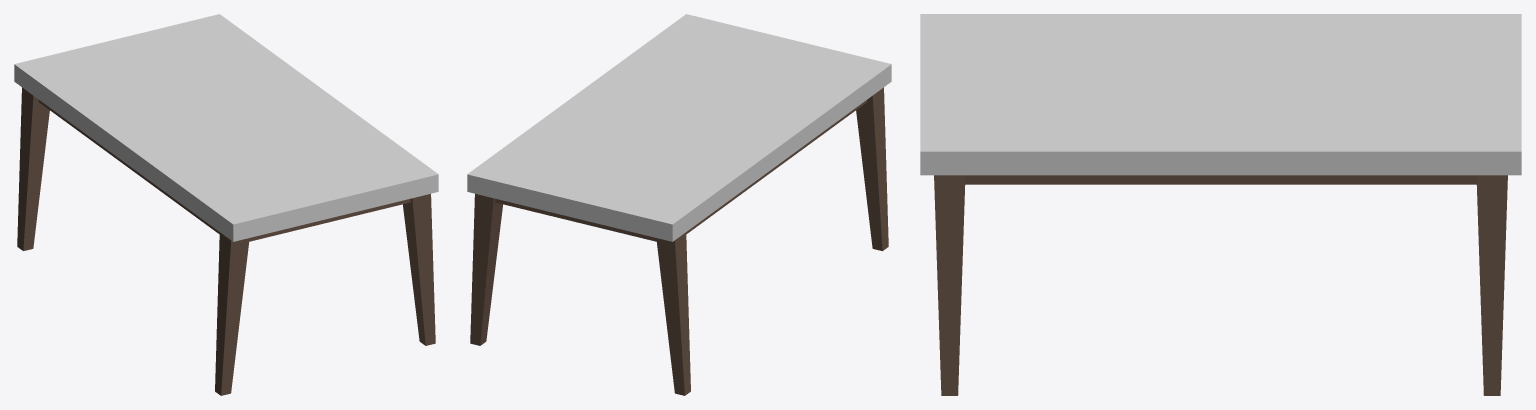
The model's file is Table4_W.fbx.
3 renders of one model, left to right at view 1: azimuth 30°, elevation 25°; view 2: azimuth 150°, elevation 25°; view 3: azimuth 270°, elevation 25°, orthographic. The views are drawn at different scales.
Parts seen in each view (by area): view 1: polySurface133, polySurface132, polySurface139, polySurface137, polySurface134, polySurface135; view 2: polySurface133, polySurface139, polySurface132, polySurface140, polySurface138, polySurface135; view 3: polySurface133, polySurface137, polySurface140, polySurface136.
Part boxes in pixels (box(x1,y1,x2,y2)): polySurface133: box(14, 14, 438, 241); polySurface132: box(215, 232, 249, 395); polySurface139: box(17, 87, 49, 250); polySurface137: box(403, 194, 435, 345); polySurface134: box(249, 198, 410, 241); polySurface135: box(38, 100, 219, 234); polySurface133: box(467, 14, 891, 241); polySurface139: box(656, 232, 690, 395); polySurface132: box(856, 87, 888, 250); polySurface140: box(470, 194, 502, 345); polySurface138: box(495, 198, 656, 241); polySurface135: box(686, 100, 867, 234); polySurface133: box(920, 14, 1521, 175); polySurface137: box(934, 175, 965, 395); polySurface140: box(1476, 175, 1507, 395); polySurface136: box(965, 175, 1476, 184).
Size of the model in its own units: 87.17 by 68.25 by 154.
